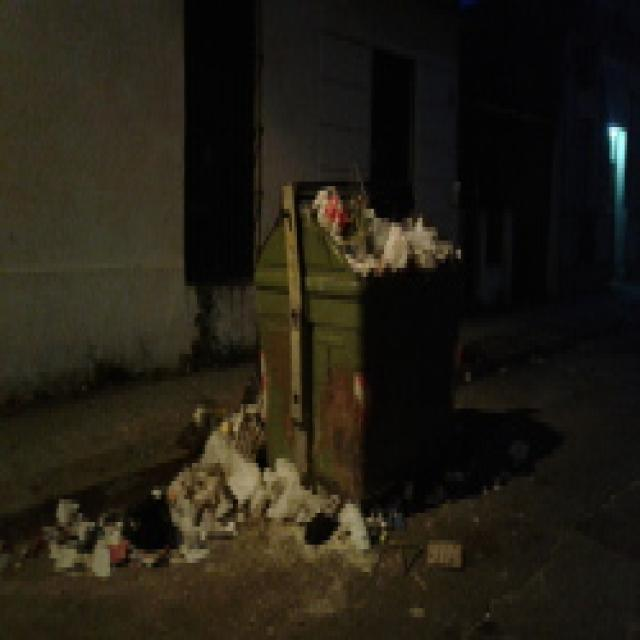garbage: (148, 400, 356, 536), (310, 186, 453, 268), (43, 477, 169, 562)
